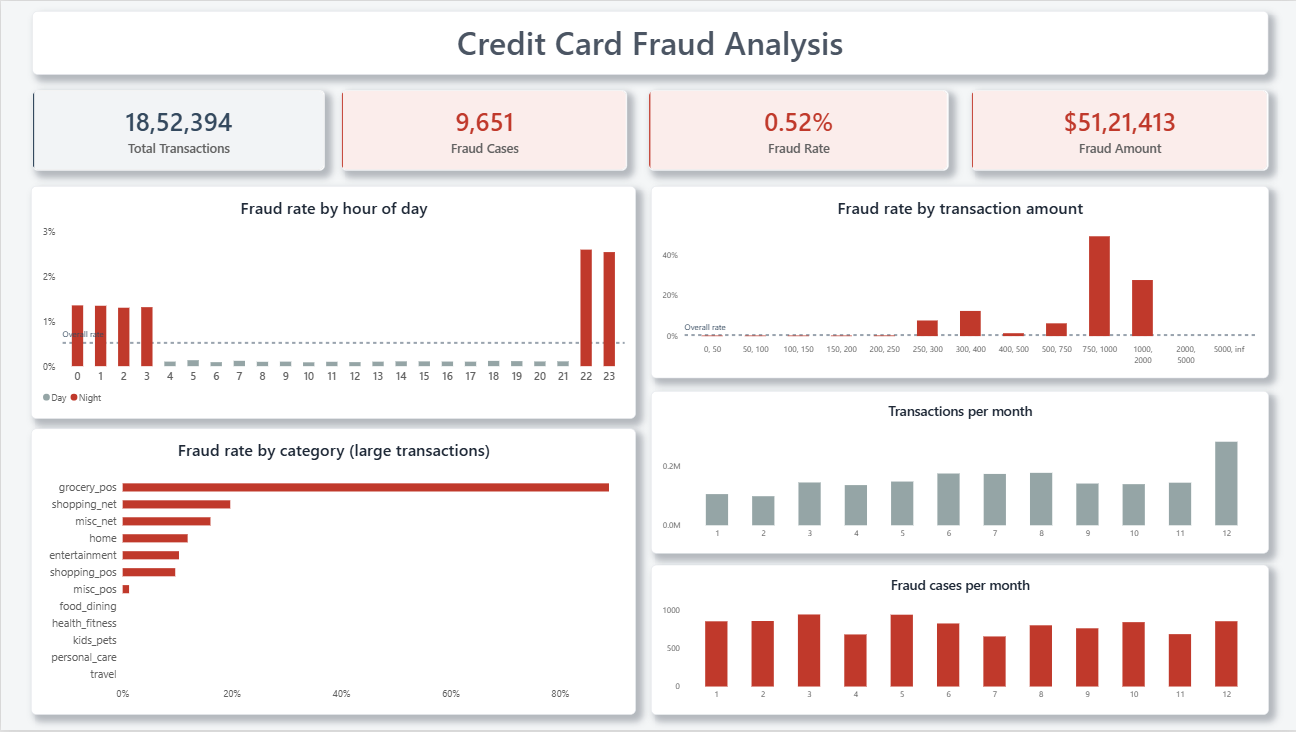

Layout of this report page (visuals, bound fields, positions):
{"tool":"powerbi","page":{"name":"Fraud Patterns","canvas":[1920,1080],"ordinal":0},"visuals":[{"type":"cardVisual","fields":{"Data":["daily_summary.Total Transactions"]},"box":[46.3,131.5,433.3,120.4],"z":0},{"type":"cardVisual","fields":{"Data":["daily_summary.Fraud Cases"]},"box":[503.7,131.5,424.1,120.4],"z":1},{"type":"cardVisual","fields":{"Data":["daily_summary.Fraud Rate"]},"box":[959.3,131.5,444.4,120.4],"z":2},{"type":"cardVisual","fields":{"Data":["daily_summary.Fraud Amount"]},"box":[1437,131.5,440.7,120.4],"z":3},{"type":"textbox","box":[46.3,14.8,1831.5,94.4],"z":4},{"type":"columnChart","title":"Fraud rate by hour of day","fields":{"Category":["fraud_by_hour.hour"],"Y":["Sum(fraud_by_hour.fraud_rate)"],"Series":["fraud_by_hour.Period"]},"box":[44.4,274.1,896.3,344.4],"z":5},{"type":"clusteredColumnChart","title":"Fraud rate by transaction amount","fields":{"Category":["fraud_by_amount.amt_band"],"Y":["Sum(fraud_by_amount.fraud_rate)"]},"box":[963,274.1,914.8,285.2],"z":6},{"type":"clusteredBarChart","title":"Fraud rate by category (large transactions)","fields":{"Category":["fraud_by_category_large.category"],"Y":["Sum(fraud_by_category_large.fraud_rate)"]},"box":[44.4,633.3,896.3,424.1],"z":7},{"type":"clusteredColumnChart","title":"Transactions per month","fields":{"Category":["fraud_by_month.month"],"Y":["Sum(fraud_by_month.txns)"]},"box":[963,577.8,914.8,240.7],"z":8},{"type":"clusteredColumnChart","title":"Fraud cases per month","fields":{"Category":["fraud_by_month.month"],"Y":["Sum(fraud_by_month.frauds)"]},"box":[963,835.2,914.8,222.2],"z":9}]}

Visuals, with their boxes in screenshot pixels (x1, y1, x2, y2), scaled from the page's 1920x1080 canvas onto the 1296x732 screenshot:
cardVisual - daily_summary.Total Transactions: locate(31, 89, 324, 171)
cardVisual - daily_summary.Fraud Cases: locate(340, 89, 626, 171)
cardVisual - daily_summary.Fraud Rate: locate(648, 89, 947, 171)
cardVisual - daily_summary.Fraud Amount: locate(970, 89, 1267, 171)
textbox: locate(31, 10, 1268, 74)
"Fraud rate by hour of day" columnChart: locate(30, 186, 635, 419)
"Fraud rate by transaction amount" clusteredColumnChart: locate(650, 186, 1268, 379)
"Fraud rate by category (large transactions)" clusteredBarChart: locate(30, 429, 635, 717)
"Transactions per month" clusteredColumnChart: locate(650, 392, 1268, 555)
"Fraud cases per month" clusteredColumnChart: locate(650, 566, 1268, 717)
